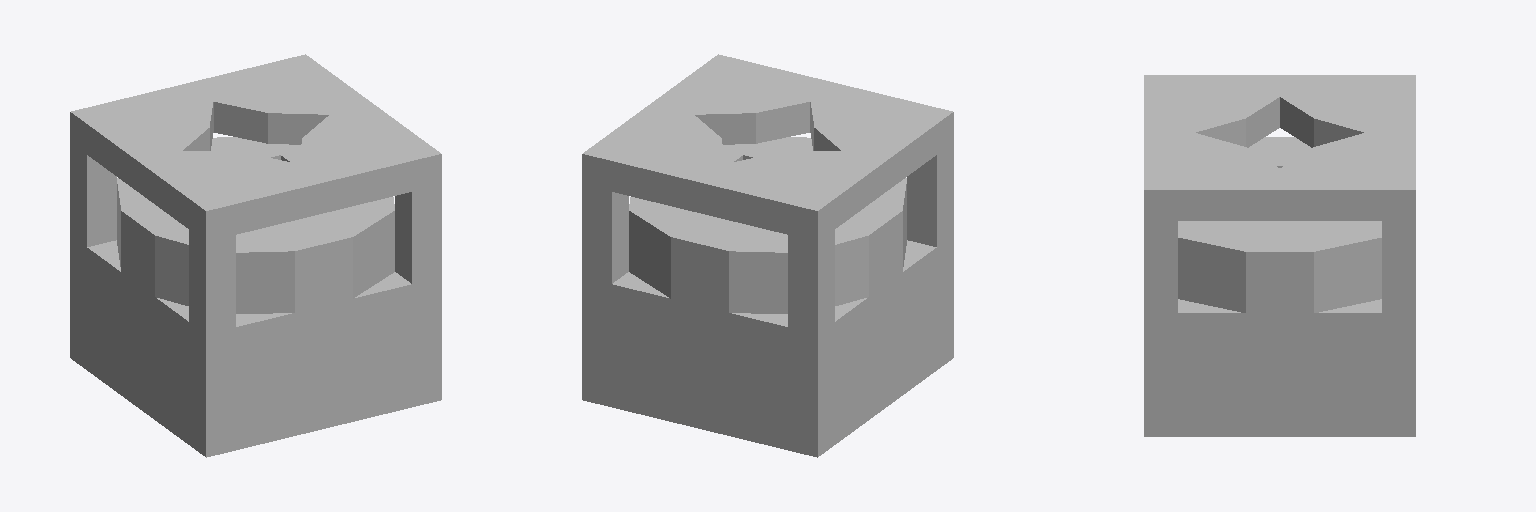
The model's file is MagicalRepairer.obj.
The picture shows the model from 3 angles: view 1: azimuth 30°, elevation 25°; view 2: azimuth 150°, elevation 25°; view 3: azimuth 270°, elevation 25°; orthographic projection.
Visible parts, largest first — view 1: pCube1; view 2: pCube1; view 3: pCube1.
Part boxes in pixels (left/top/right/bottom): pCube1: left=70, top=54, right=441, bottom=457; pCube1: left=582, top=54, right=953, bottom=457; pCube1: left=1144, top=75, right=1415, bottom=436.
Size of the model in its own units: 1 by 1 by 1.